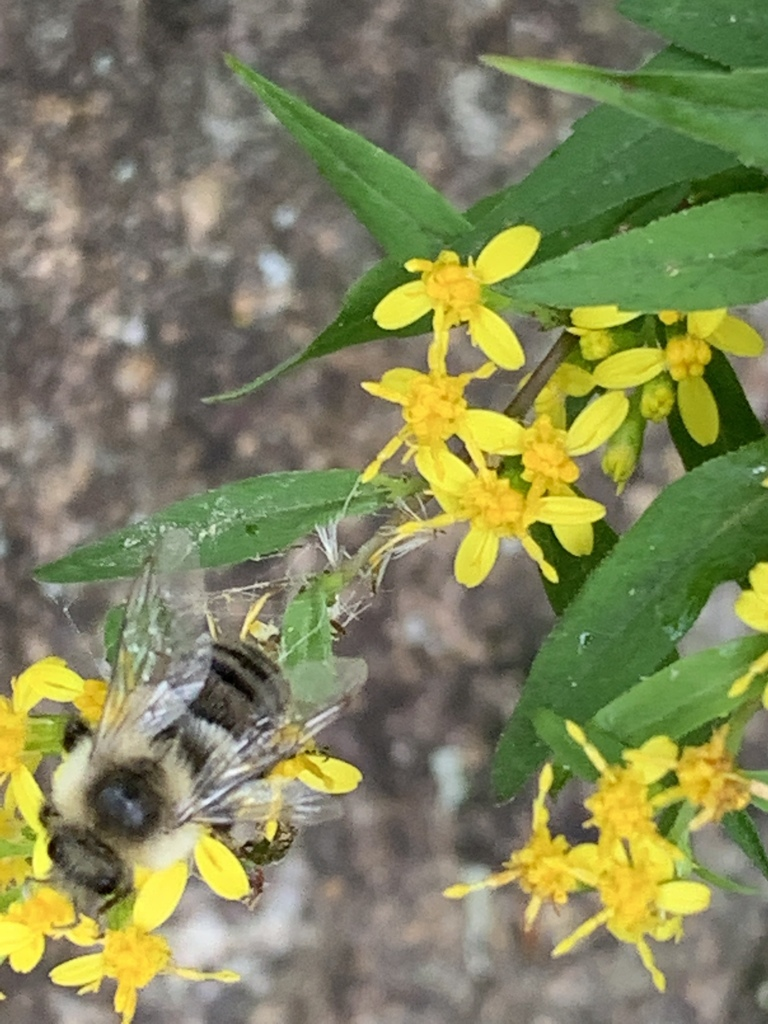bumblebee: (36, 526, 348, 944)
